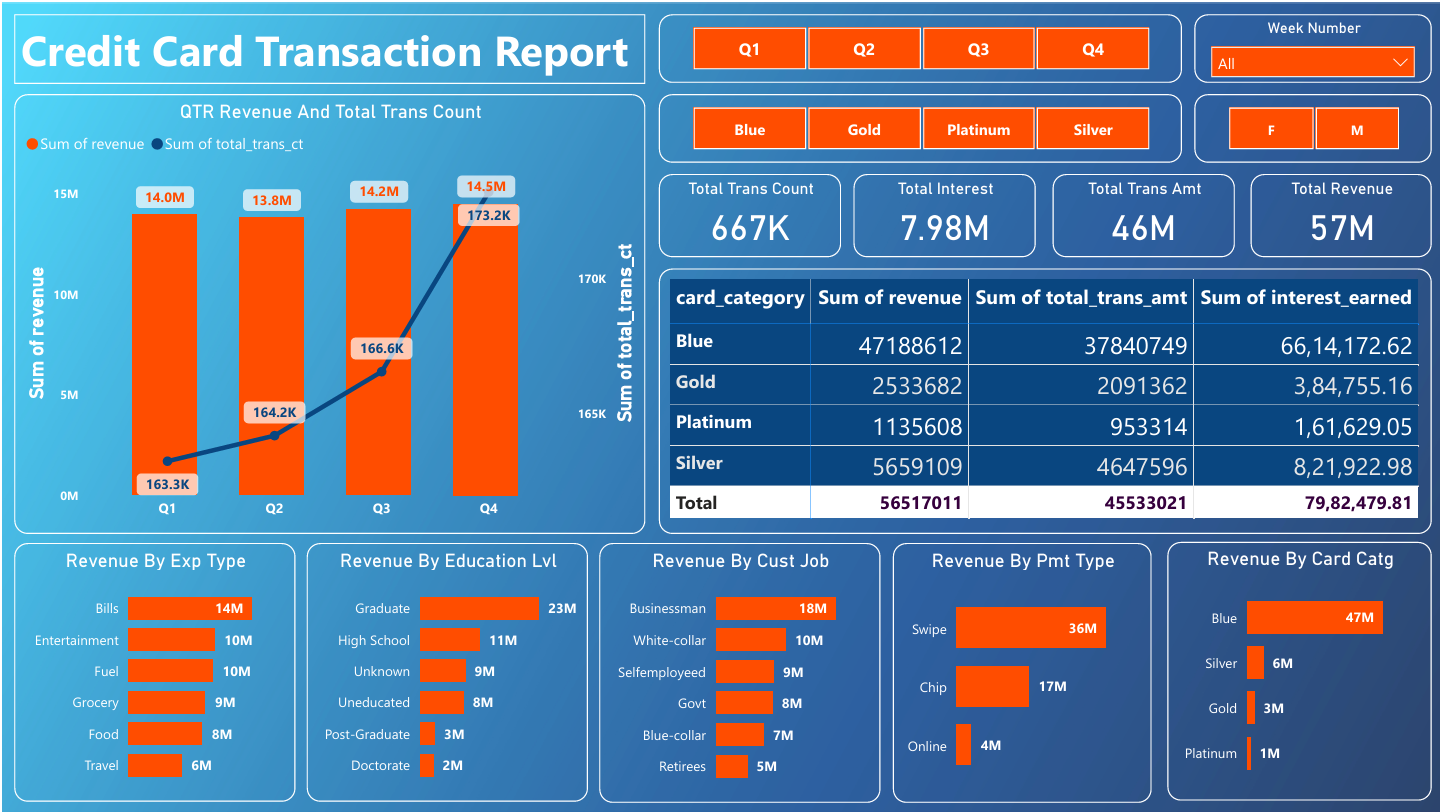

Layout of this report page (visuals, bound fields, positions):
{"tool":"powerbi","page":{"name":"CC Transaction","canvas":[1280,720],"ordinal":0},"visuals":[{"type":"textbox","box":[9.7,9.7,561,62],"z":0},{"type":"lineClusteredColumnComboChart","title":"QTR Revenue And Total Trans Count","fields":{"Y":["Sum(public cc_detail.revenue)"],"Category":["public cc_detail.qtr"],"Y2":["Sum(public cc_detail.total_trans_ct)"]},"box":[9.7,80.8,561,390.9],"z":1000},{"type":"barChart","title":"Revenue By Exp Type","fields":{"Category":["public cc_detail.exp_type"],"Y":["Sum(public cc_detail.revenue)"]},"box":[9.7,480,250,230],"z":2000},{"type":"barChart","title":"Revenue By Education Lvl","fields":{"Category":["public cust_detail.education_level"],"Y":["Sum(public cc_detail.revenue)"]},"box":[270,480,250,230],"z":3000},{"type":"barChart","title":"Revenue By Cust Job","fields":{"Category":["public cust_detail.customer_job"],"Y":["Sum(public cc_detail.revenue)"]},"box":[530,480.2,250,230.4],"z":4000},{"type":"barChart","title":"Revenue By Card Catg","fields":{"Category":["public cc_detail.card_category"],"Y":["Sum(public cc_detail.revenue)"]},"box":[1035.1,479,235.3,230.4],"z":5000},{"type":"barChart","title":"Revenue By Pmt Type","fields":{"Category":["public cc_detail.use_chip"],"Y":["Sum(public cc_detail.revenue)"]},"box":[791,480.4,230,230.4],"z":6000},{"type":"pivotTable","fields":{"Rows":["public cc_detail.card_category"],"Values":["Sum(public cc_detail.revenue)","Sum(public cc_detail.total_trans_amt)","Sum(public cc_detail.interest_earned)"]},"box":[582.7,236.5,687.7,235.3],"z":7000},{"type":"card","title":"Total Revenue","fields":{"Values":["Sum(public cc_detail.revenue)"]},"box":[1108.7,152,161.7,73.6],"z":8000},{"type":"card","title":"Total Trans Amt","fields":{"Values":["Sum(public cc_detail.total_trans_amt)"]},"box":[933,152,162,74],"z":9000},{"type":"card","title":"Total Trans Count","fields":{"Values":["Sum(public cc_detail.total_trans_ct)"]},"box":[582.7,152,162,73.6],"z":10000},{"type":"card","title":"Total Interest","fields":{"Values":["Sum(public cc_detail.interest_earned)"]},"box":[756,152,162,74],"z":11000},{"type":"slicer","fields":{"Values":["public cc_detail.qtr"]},"box":[582.7,9.7,465.7,61.5],"z":12000},{"type":"slicer","title":"Week Number","fields":{"Values":["public cc_detail.week_start_date"]},"box":[1059.3,9.7,211.1,61.5],"z":13000},{"type":"slicer","fields":{"Values":["public cust_detail.gender"]},"box":[1059.3,80.8,211.1,61.5],"z":14000},{"type":"slicer","fields":{"Values":["public cc_detail.card_category"]},"box":[582.7,80.8,465.7,61.5],"z":15000}]}

Visuals, with their boxes in screenshot pixels (x1, y1, x2, y2), scaled from the page's 1280x720 canvas onto the 1440x812 screenshot:
textbox: (left=11, top=11, right=642, bottom=81)
"QTR Revenue And Total Trans Count" lineClusteredColumnComboChart: (left=11, top=91, right=642, bottom=532)
"Revenue By Exp Type" barChart: (left=11, top=541, right=292, bottom=801)
"Revenue By Education Lvl" barChart: (left=304, top=541, right=585, bottom=801)
"Revenue By Cust Job" barChart: (left=596, top=542, right=878, bottom=801)
"Revenue By Card Catg" barChart: (left=1164, top=540, right=1429, bottom=800)
"Revenue By Pmt Type" barChart: (left=890, top=542, right=1149, bottom=802)
pivotTable - public cc_detail.card_category x Sum(public cc_detail.revenue): (left=656, top=267, right=1429, bottom=532)
"Total Revenue" card: (left=1247, top=171, right=1429, bottom=254)
"Total Trans Amt" card: (left=1050, top=171, right=1232, bottom=255)
"Total Trans Count" card: (left=656, top=171, right=838, bottom=254)
"Total Interest" card: (left=850, top=171, right=1033, bottom=255)
slicer - public cc_detail.qtr: (left=656, top=11, right=1179, bottom=80)
"Week Number" slicer: (left=1192, top=11, right=1429, bottom=80)
slicer - public cust_detail.gender: (left=1192, top=91, right=1429, bottom=160)
slicer - public cc_detail.card_category: (left=656, top=91, right=1179, bottom=160)
